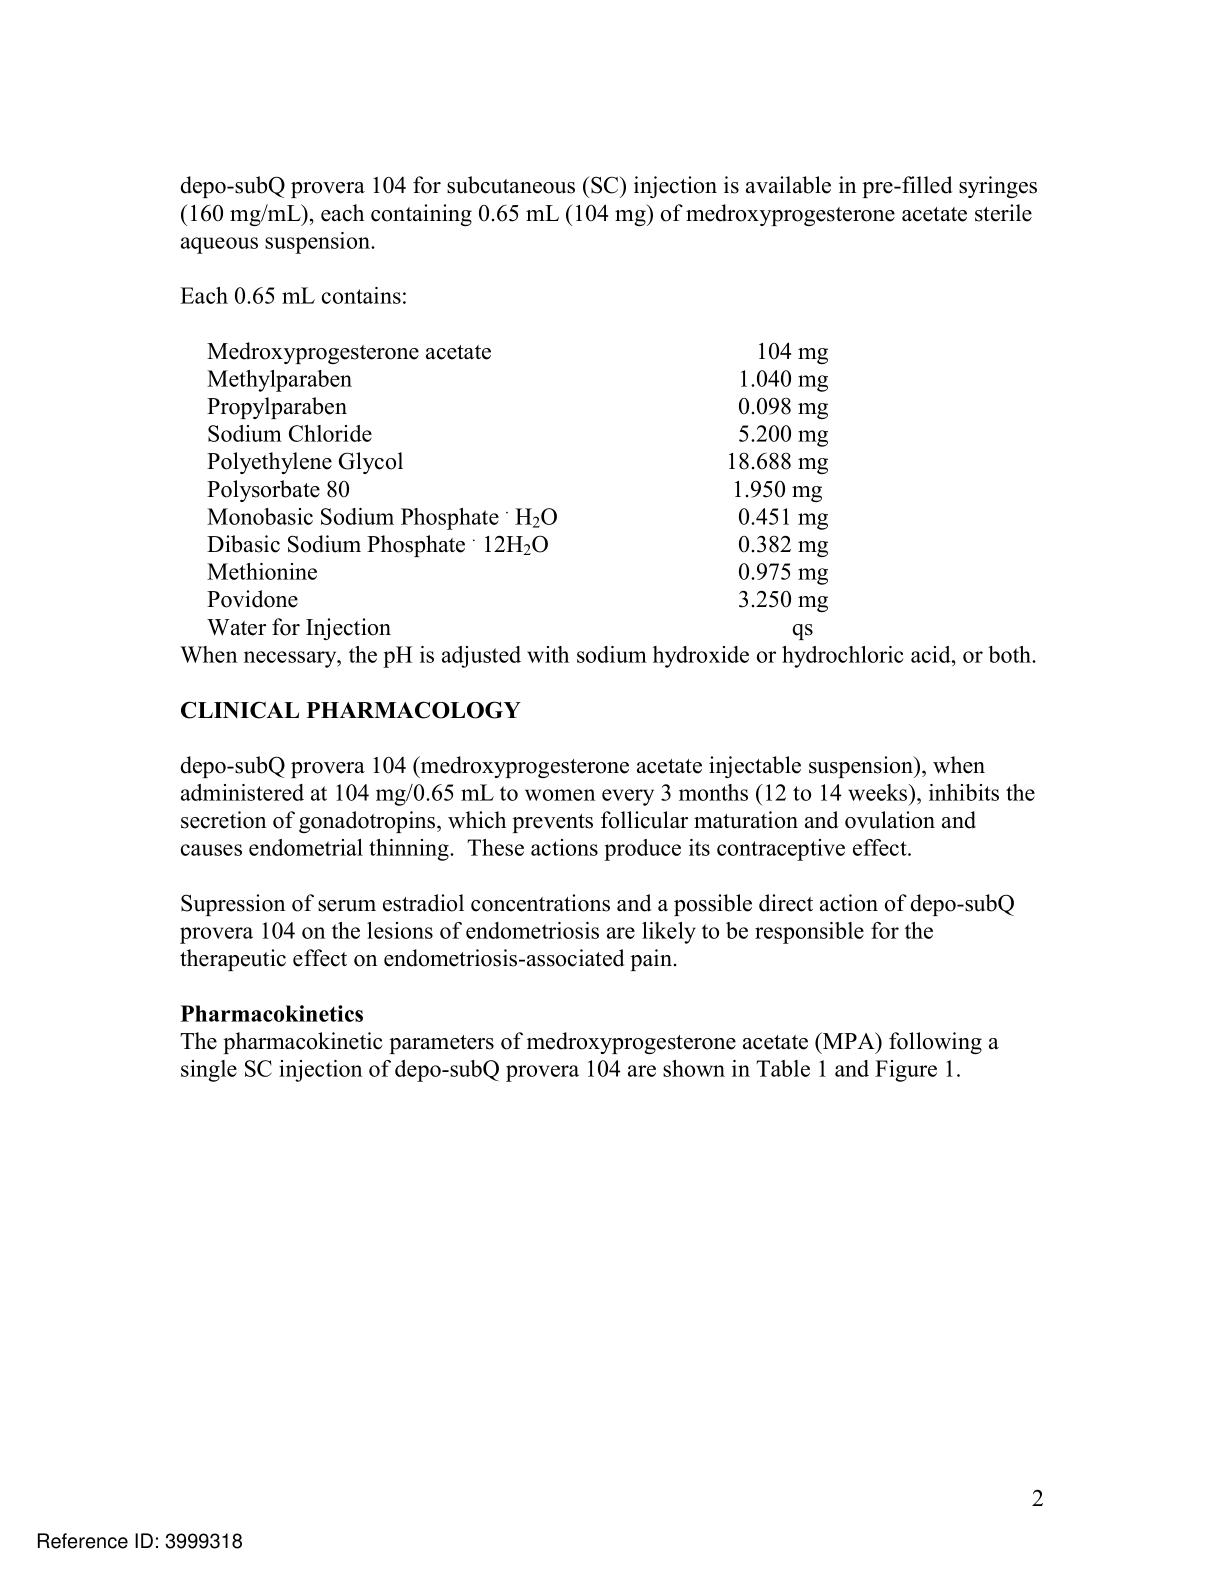nolines: (203, 339, 833, 642)
